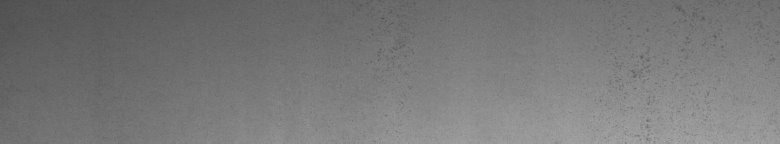ib: (631, 5, 762, 128)
